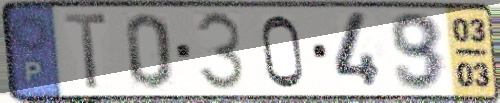0: (123, 10, 177, 93), (258, 13, 306, 91)
3: (192, 9, 247, 94)
4: (331, 9, 389, 94)
9: (387, 10, 449, 93)
T: (62, 11, 111, 93)
